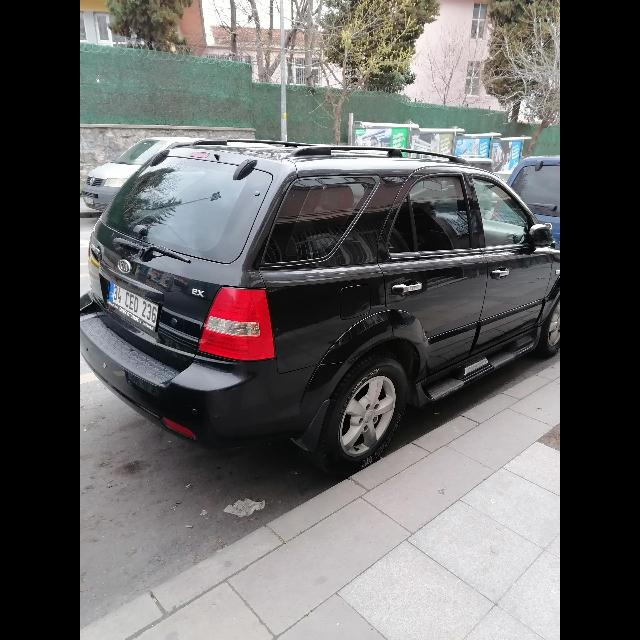Plaka: (108, 282, 156, 326)
